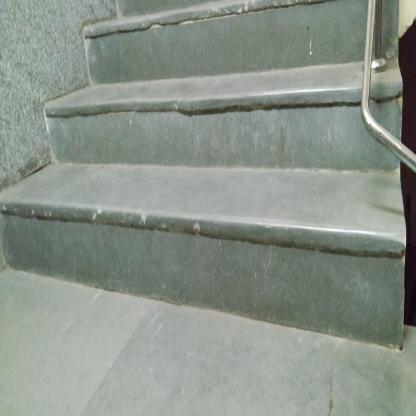stairs: (92, 12, 289, 336)
